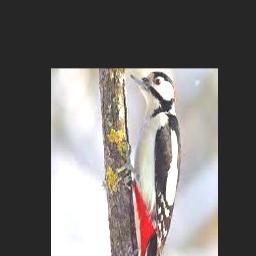Woodpecker: (120, 71, 182, 256)
